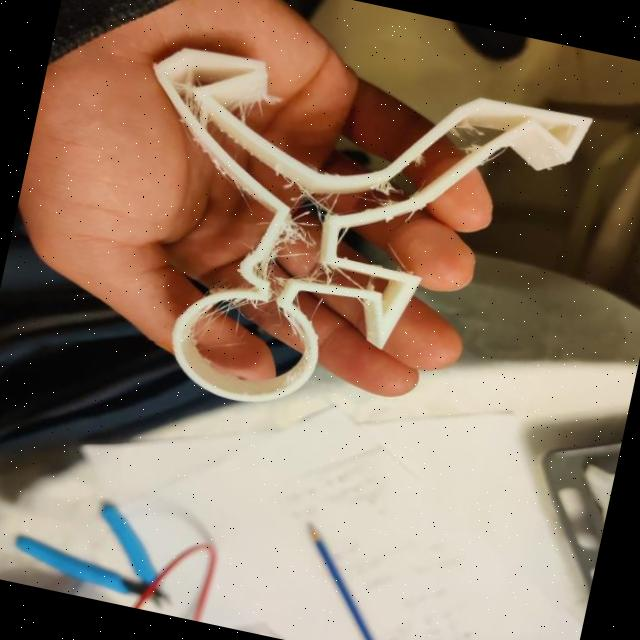stringing: (171, 62, 211, 120), (227, 89, 291, 122), (202, 297, 256, 333), (275, 211, 314, 254), (446, 116, 486, 145), (303, 190, 342, 215), (306, 261, 340, 286), (335, 268, 368, 291), (252, 252, 278, 278), (373, 178, 397, 196)
